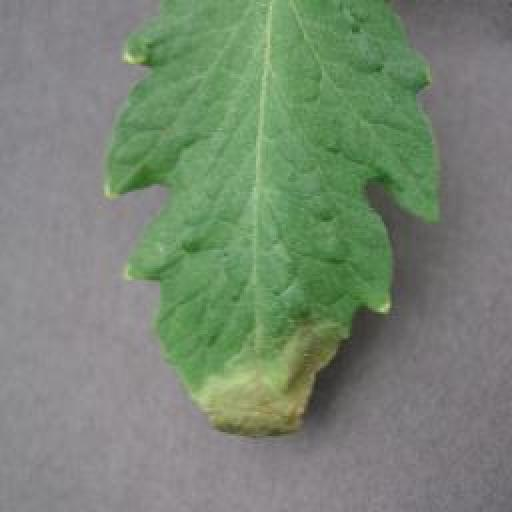disease_tomato: (104, 0, 444, 443)
